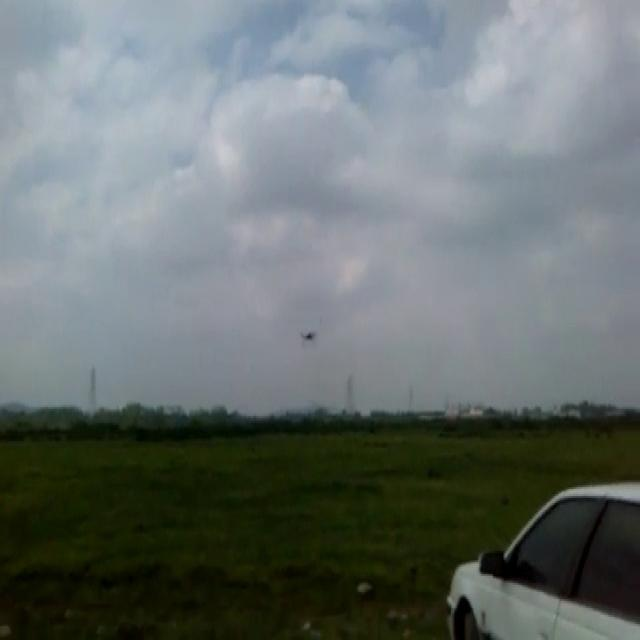drone: (297, 324, 319, 346)
